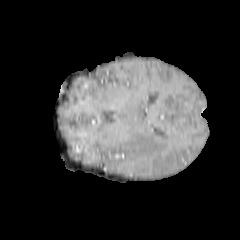glioma: (112, 128, 175, 171)
